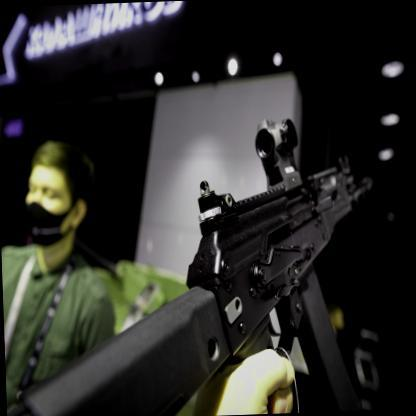rifle: (30, 91, 397, 411)
